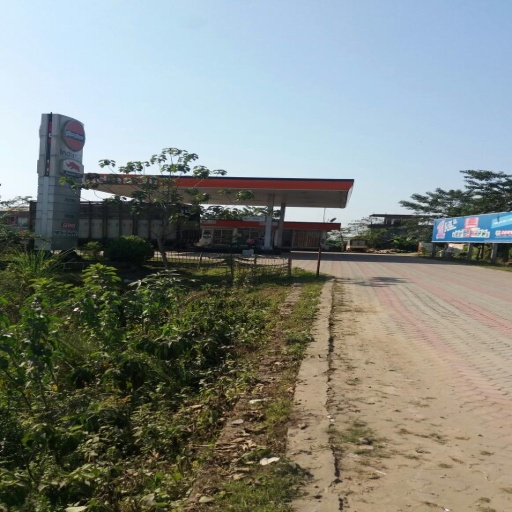roof: (70, 175, 358, 196)
